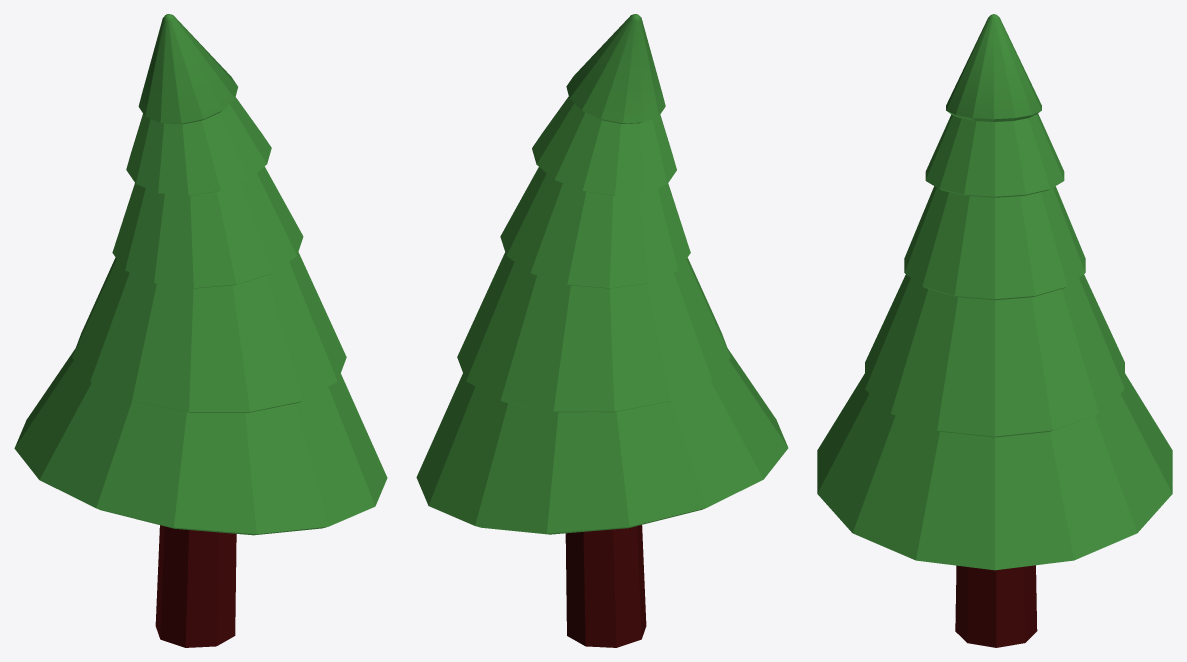
The model's file is Elka_Bend.fbx.
The picture shows the model from 3 angles, left to right: view 1: azimuth 30°, elevation 25°; view 2: azimuth 150°, elevation 25°; view 3: azimuth 270°, elevation 25°; orthographic projection. The views are drawn at different scales.
Visible parts, largest first — view 1: Elka_2; view 2: Elka_2; view 3: Elka_2.
Boxes of the visible parts, x1,y1,x2,y2 form: Elka_2: (14,14,387,647); Elka_2: (416,14,788,647); Elka_2: (817,14,1172,647).
Size of the model in its own units: 173 by 319 by 170.
